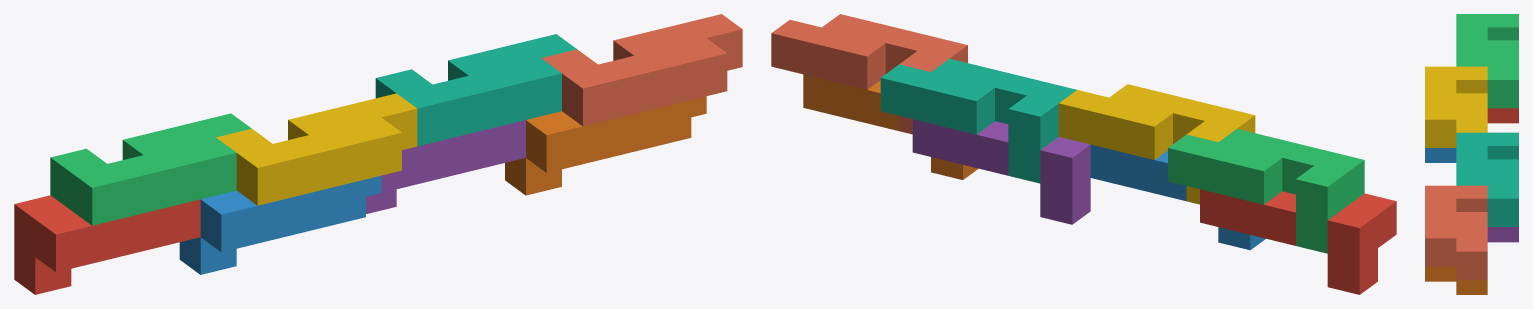
File: tiling.obj
3 renders of one model, left to right at view 1: azimuth 30°, elevation 25°; view 2: azimuth 150°, elevation 25°; view 3: azimuth 270°, elevation 25°, orthographic. The views are drawn at different scales.
Parts seen in each view (by area): view 1: copy_1_domain_3, copy_1_domain_4, copy_1_domain_8, copy_1_domain_7, copy_1_domain_1, copy_1_domain_2, copy_1_domain_6, copy_1_domain_5; view 2: copy_1_domain_3, copy_1_domain_7, copy_1_domain_4, copy_1_domain_8, copy_1_domain_1, copy_1_domain_5, copy_1_domain_2, copy_1_domain_6; view 3: copy_1_domain_8, copy_1_domain_7, copy_1_domain_4, copy_1_domain_3, copy_1_domain_6, copy_1_domain_1, copy_1_domain_5, copy_1_domain_2.
Part boxes in pixels (x1,y1,x2,y2): copy_1_domain_3: (50,113,251,225); copy_1_domain_4: (216,93,417,205); copy_1_domain_8: (541,14,742,126); copy_1_domain_7: (375,34,576,146); copy_1_domain_1: (14,195,200,294); copy_1_domain_2: (179,175,381,274); copy_1_domain_6: (505,96,706,195); copy_1_domain_5: (366,120,525,213); copy_1_domain_3: (1168,129,1364,253); copy_1_domain_7: (880,58,1076,183); copy_1_domain_4: (1058,84,1255,204); copy_1_domain_8: (771,14,967,134); copy_1_domain_1: (1200,189,1396,294); copy_1_domain_5: (912,119,1090,224); copy_1_domain_2: (1090,144,1265,250); copy_1_domain_6: (803,74,978,179); copy_1_domain_8: (1425,185,1487,279); copy_1_domain_7: (1456,132,1518,226); copy_1_domain_4: (1425,66,1487,147); copy_1_domain_3: (1456,14,1518,108); copy_1_domain_6: (1425,266,1487,294); copy_1_domain_1: (1487,108,1518,123); copy_1_domain_5: (1487,227,1518,242); copy_1_domain_2: (1425,148,1456,162).
Bounding box in the file's own units: 19 × 3 × 3.
